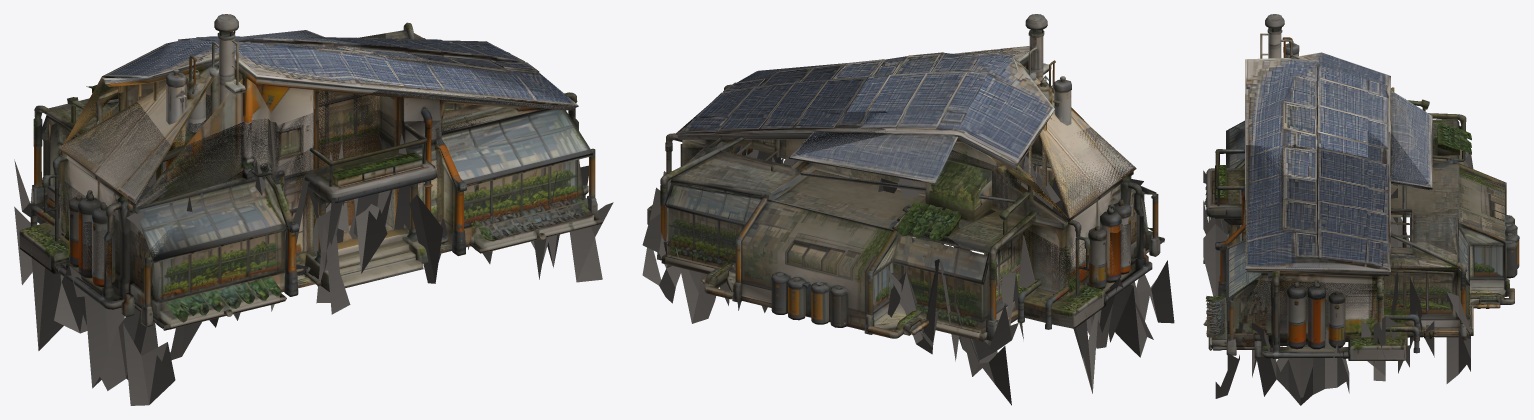
File: nha_kinh.glb
The picture shows the model from 3 angles, left to right: view 1: azimuth 30°, elevation 25°; view 2: azimuth 150°, elevation 25°; view 3: azimuth 270°, elevation 25°; orthographic projection. The views are drawn at different scales.
Visible parts, largest first — view 1: do_1, do_2, nguyen; view 2: do_1, do_2, nguyen; view 3: do_1, do_2, nguyen.
Part boxes in pixels (x1=…): do_1: x1=14, y1=33, x2=613, y2=405; do_2: x1=14, y1=22, x2=592, y2=300; nguyen: x1=60, y1=14, x2=577, y2=251; do_1: x1=642, y1=142, x2=1174, y2=405; do_2: x1=642, y1=61, x2=1155, y2=361; nguyen: x1=762, y1=14, x2=1134, y2=221; do_1: x1=1203, y1=126, x2=1519, y2=405; do_2: x1=1203, y1=99, x2=1473, y2=365; nguyen: x1=1245, y1=14, x2=1432, y2=266.
Bounding box in the file's own units: 19.26 × 13.28 × 13.78.
Materials: 2 (1 with a texture image).
